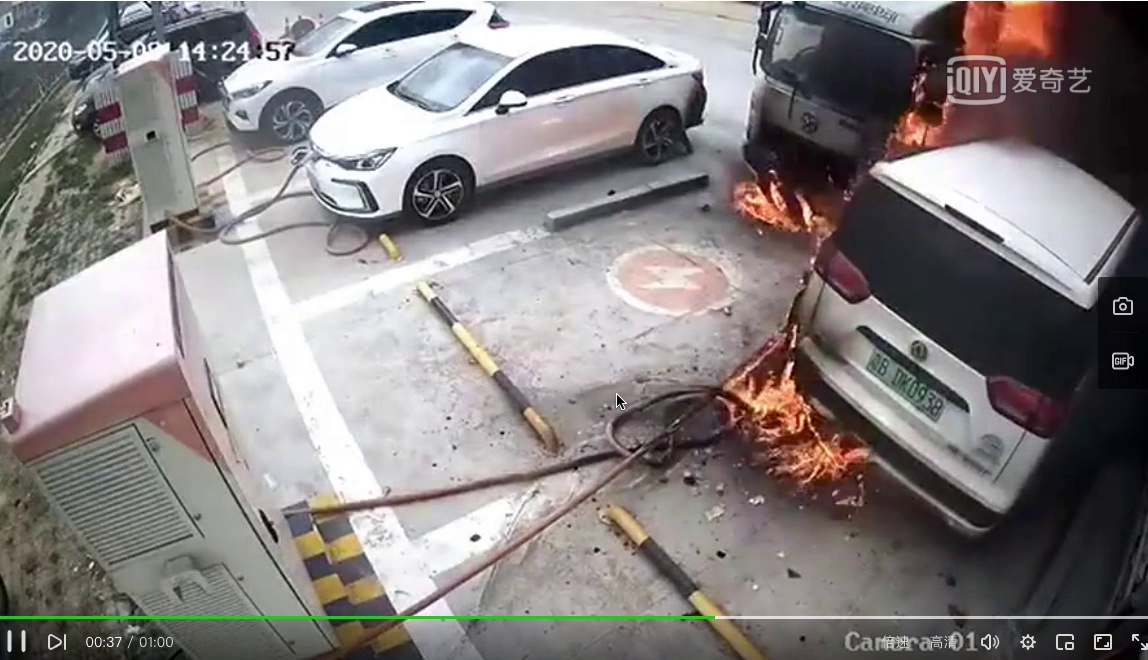fire: (728, 369, 858, 505), (721, 168, 836, 241)
